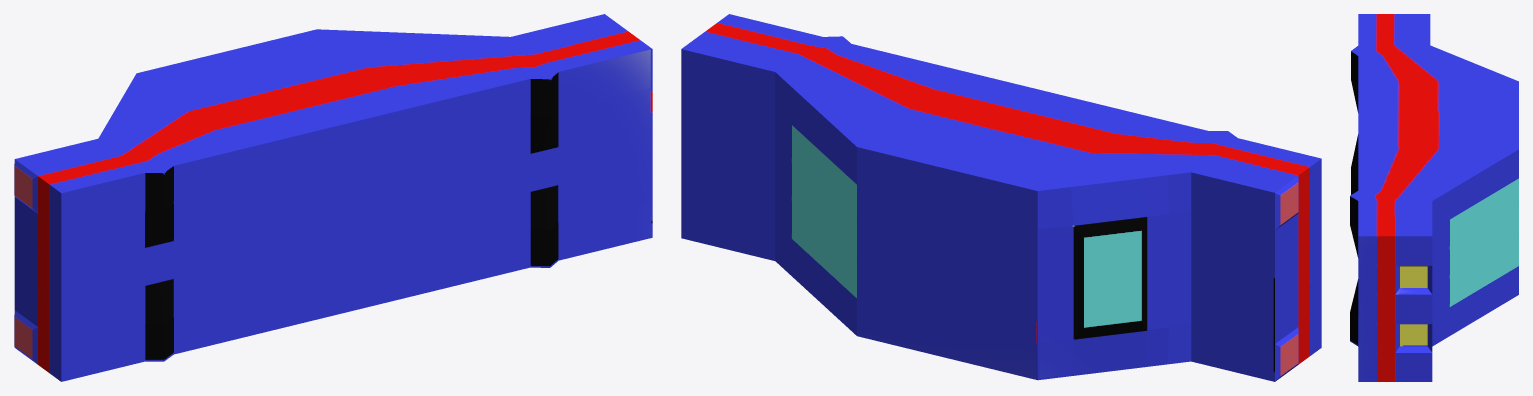
Rendered from Car.fbx.
3 views of the same model, side by side, from view 1: azimuth 30°, elevation 25°; view 2: azimuth 150°, elevation 25°; view 3: azimuth 270°, elevation 25° (orthographic). The views are drawn at different scales.
Parts seen in each view (by area): view 1: Cube; view 2: Cube; view 3: Cube.
Part boxes in pixels (left/top/right/bottom): Cube: left=14, top=14, right=652, bottom=381; Cube: left=681, top=14, right=1321, bottom=381; Cube: left=1350, top=14, right=1518, bottom=381.
Bounding box in the file's own units: 659 × 200 × 210.
Materials: 1 (1 with a texture image).
